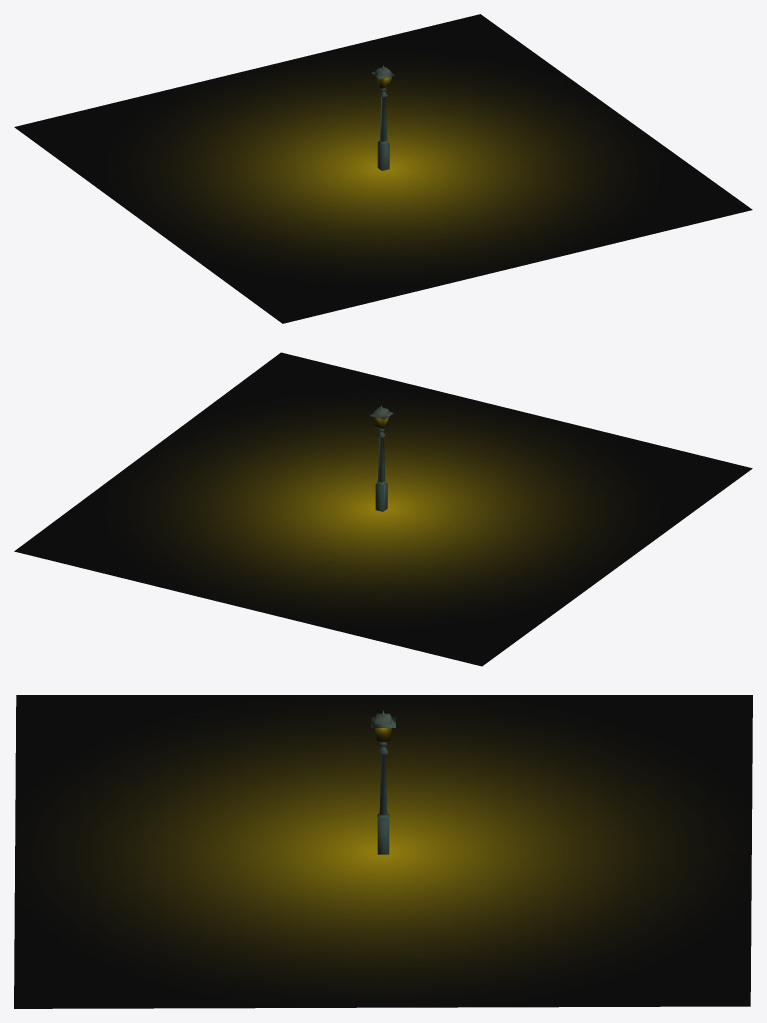
File: lamp_model.obj
3 views of the same model, one above another, from view 1: azimuth 30°, elevation 25°; view 2: azimuth 150°, elevation 25°; view 3: azimuth 270°, elevation 25° (orthographic). The views are drawn at different scales.
Size of the model in its own units: 702 by 150 by 699.
